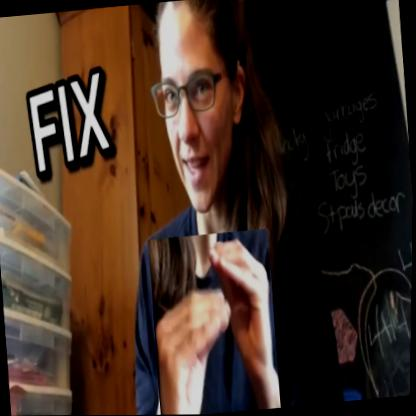Fix: (147, 228, 284, 415)
